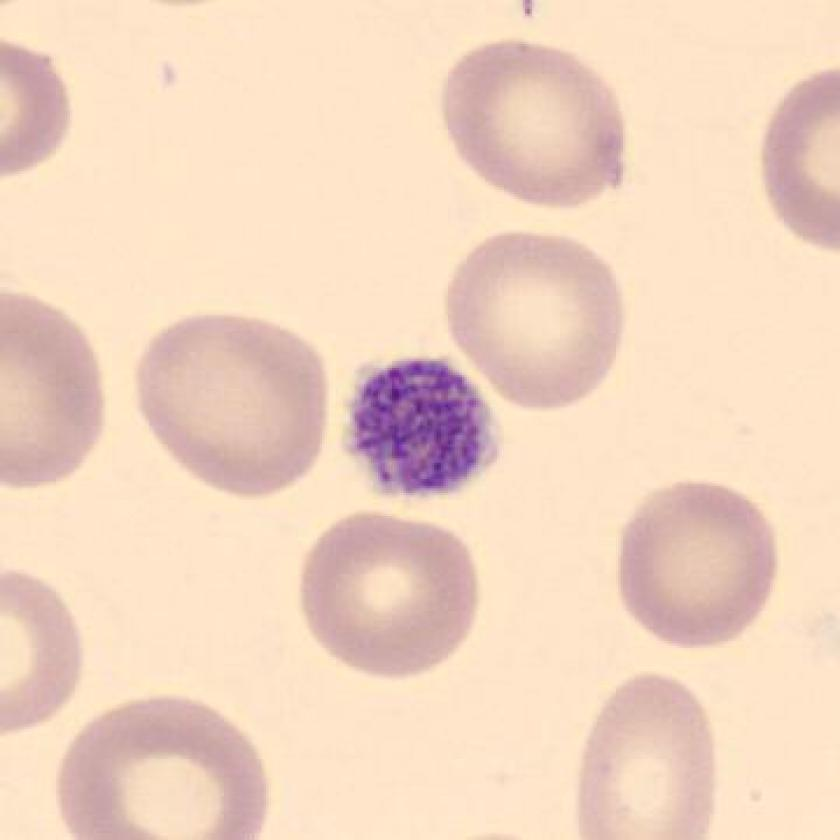platelets: (337, 344, 507, 513)
